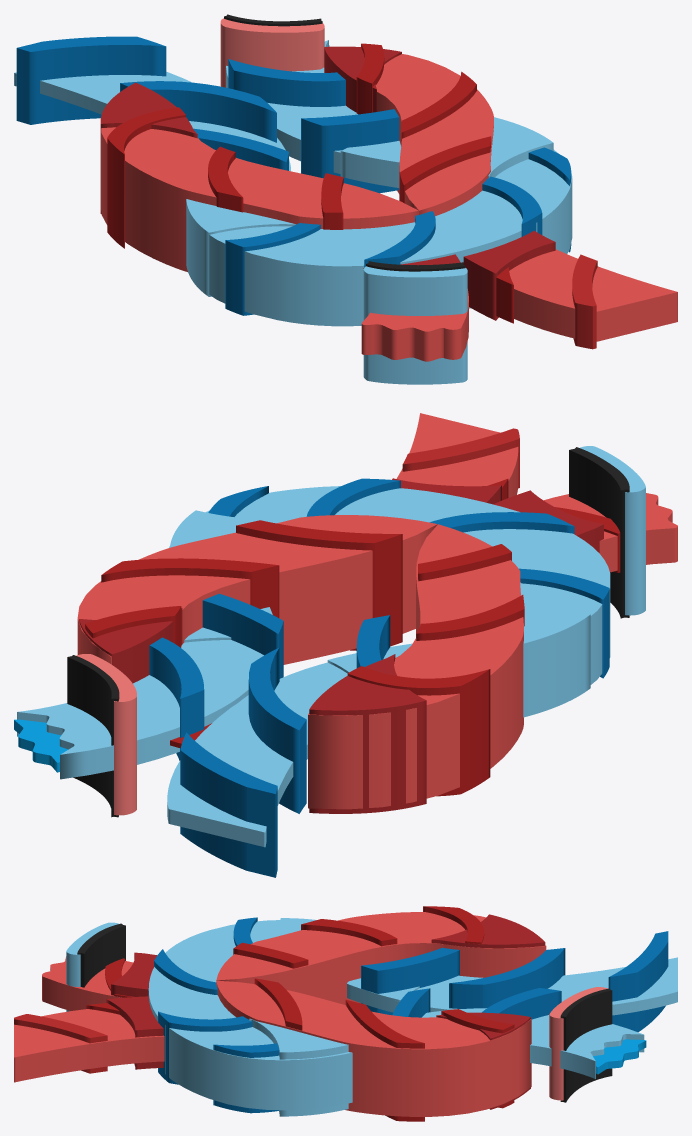
File: emoji_u1faa2.glb
The picture shows the model from 3 angles, top to bottom: view 1: azimuth 30°, elevation 25°; view 2: azimuth 150°, elevation 25°; view 3: azimuth 270°, elevation 25°; orthographic projection. The views are drawn at different scales.
Visible parts, largest first — view 1: emoji_u1faa2; view 2: emoji_u1faa2; view 3: emoji_u1faa2.
Part boxes in pixels (<box>): emoji_u1faa2: <box>14,14,677,384</box>; emoji_u1faa2: <box>14,413,677,877</box>; emoji_u1faa2: <box>14,906,677,1121</box>.
Bounding box in the file's own units: 0.0169 × 0.0052 × 0.0338.
